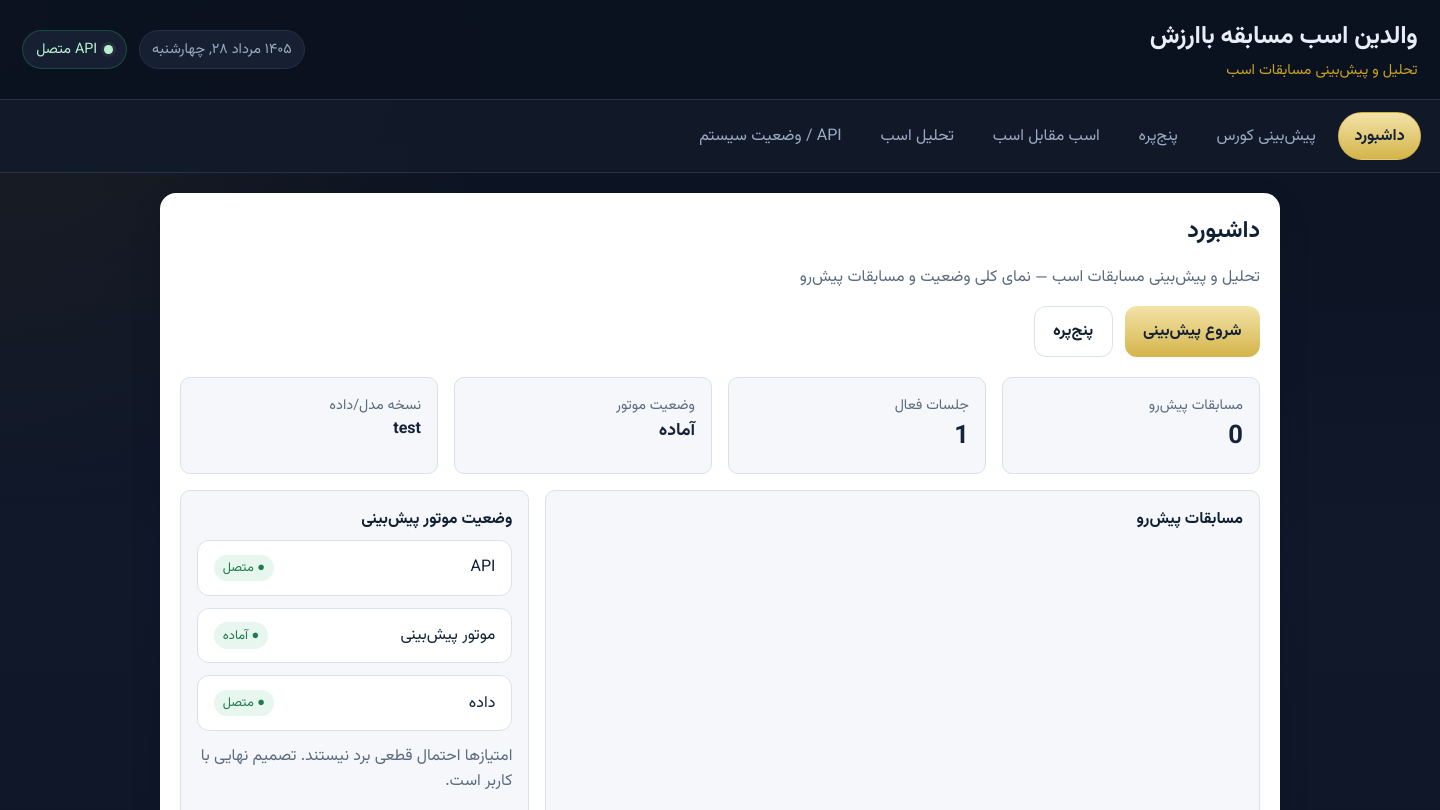
it: App dashboard › validates horse vs horse same-horse selection
Click the button "اسب مقابل اسب".
click(1046, 136)  # box [976, 112, 1116, 160]
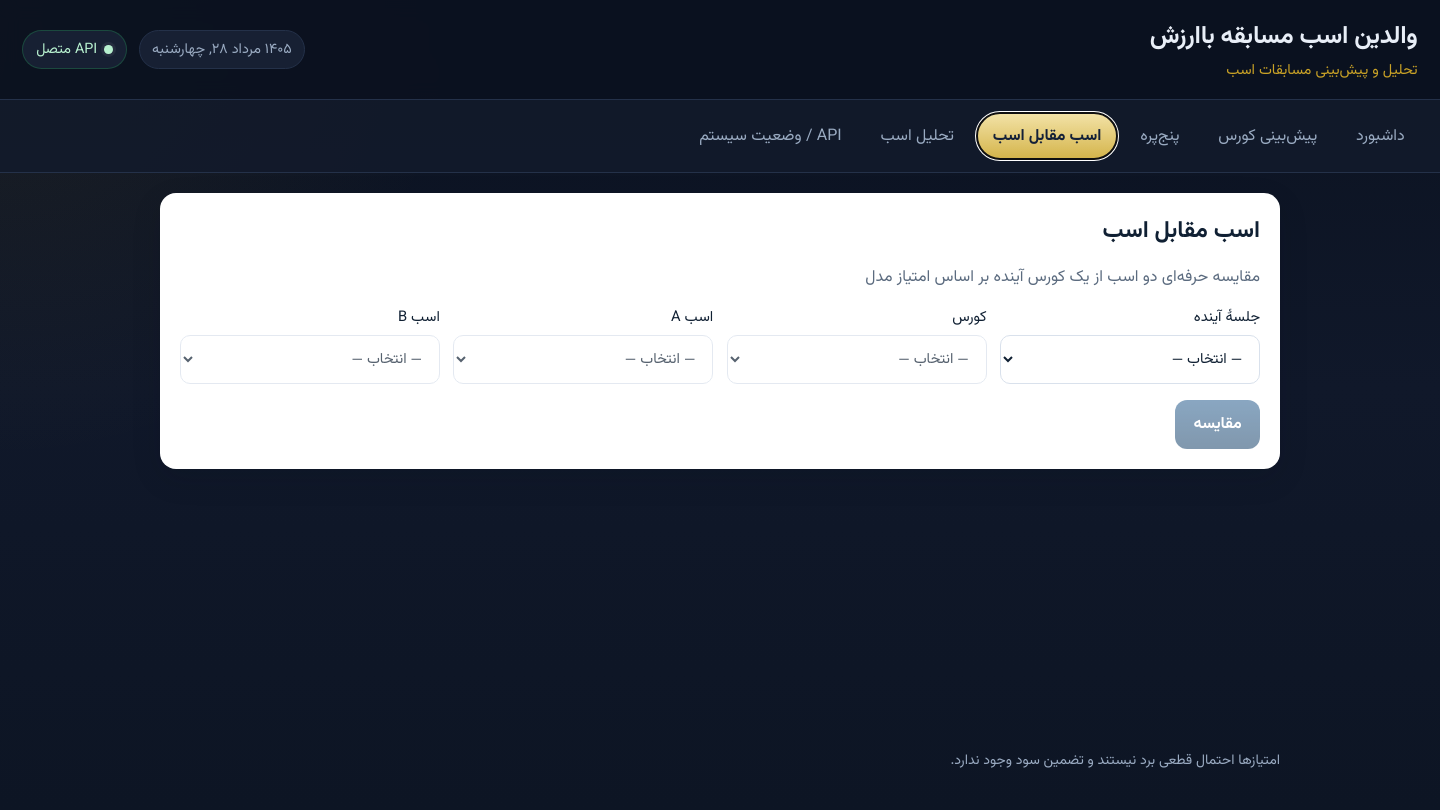
Select "جمعه · مشهد" in the dropdown labelled "جلسهٔ آینده" at (1130, 360), box [1000, 335, 1260, 384]
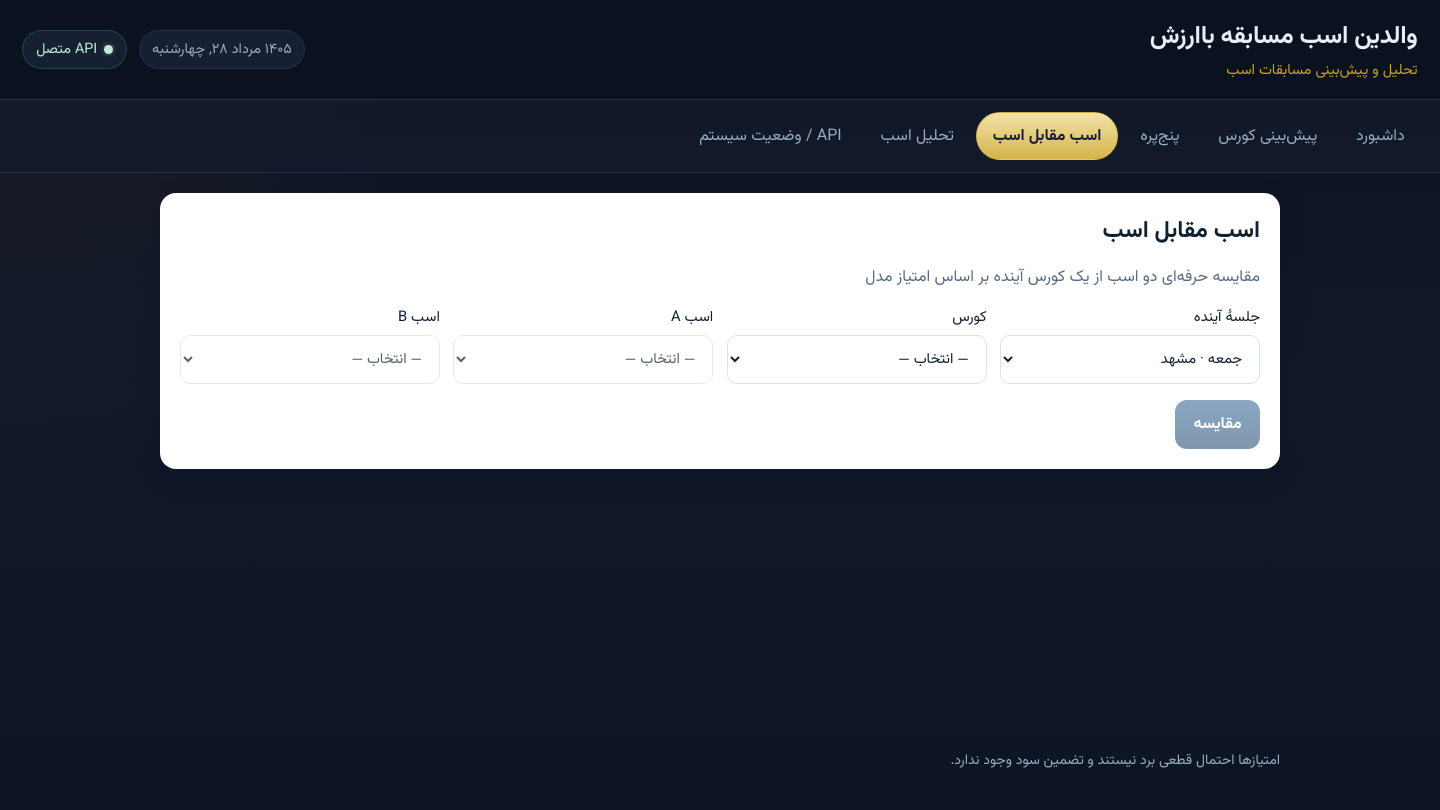
Select "کورس ۱" in the dropdown labelled "کورس" at (857, 360), box [727, 335, 987, 384]
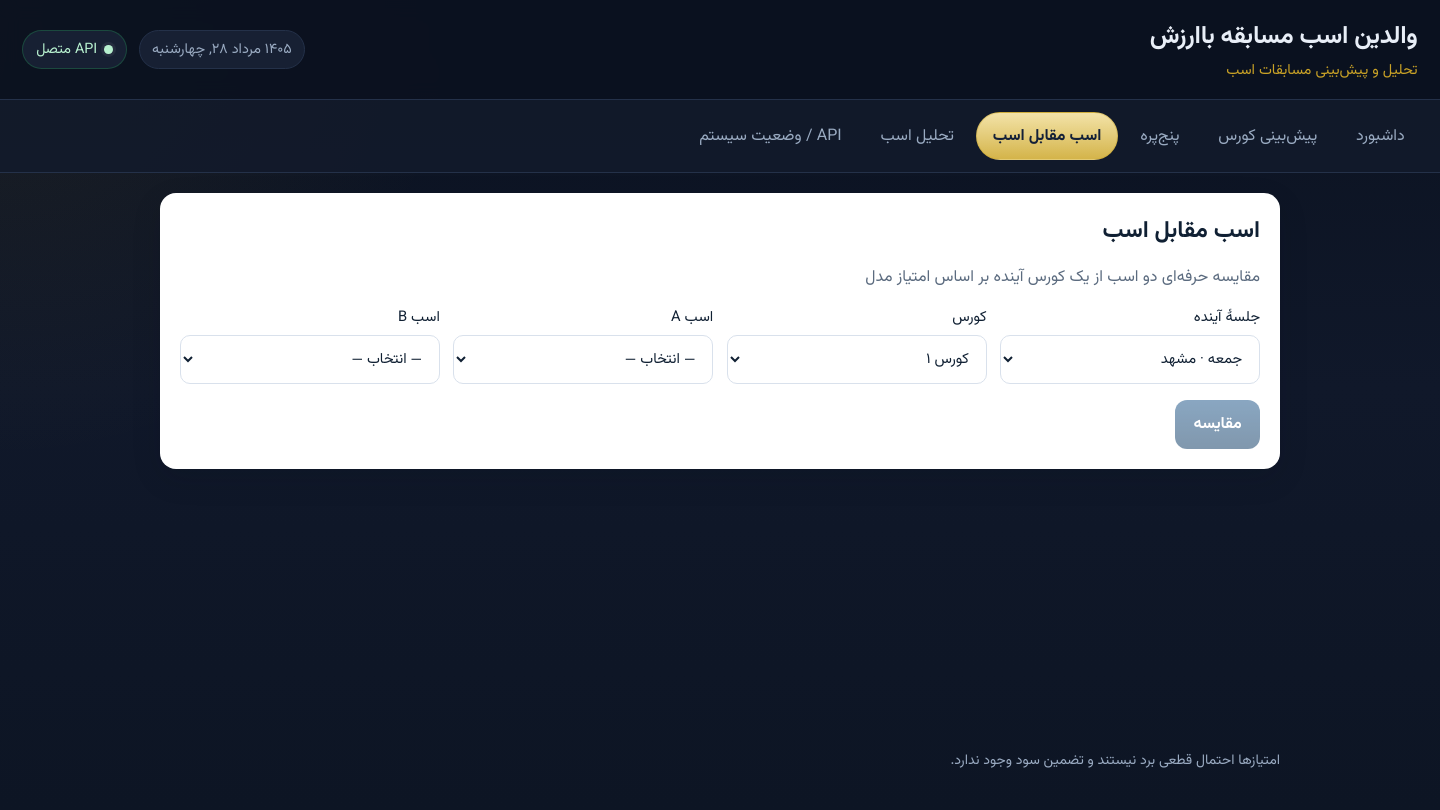
Select "A" in the dropdown labelled "اسب A" at (583, 360), box [453, 335, 713, 384]
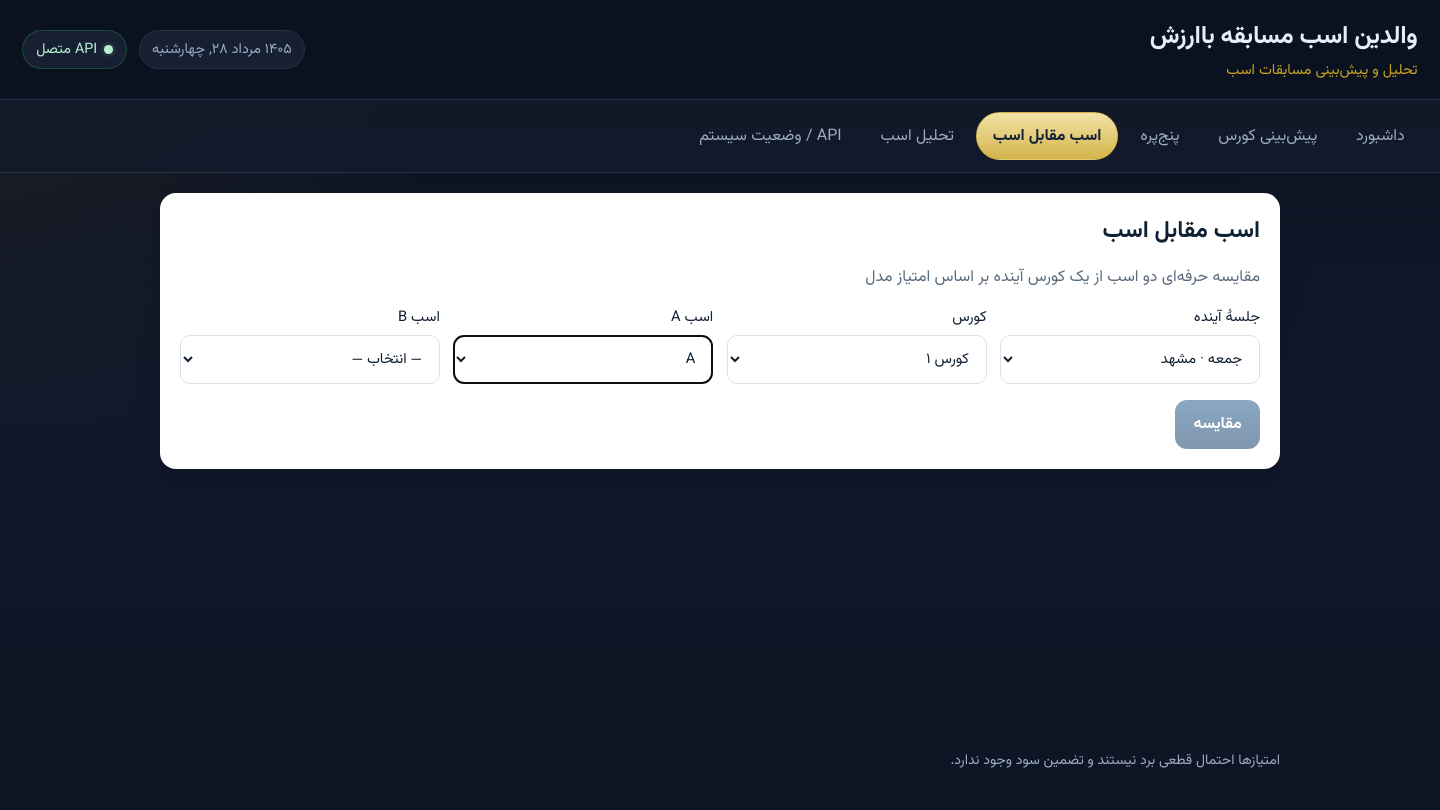
Select "A" in the dropdown labelled "اسب B" at (310, 360), box [180, 335, 440, 384]
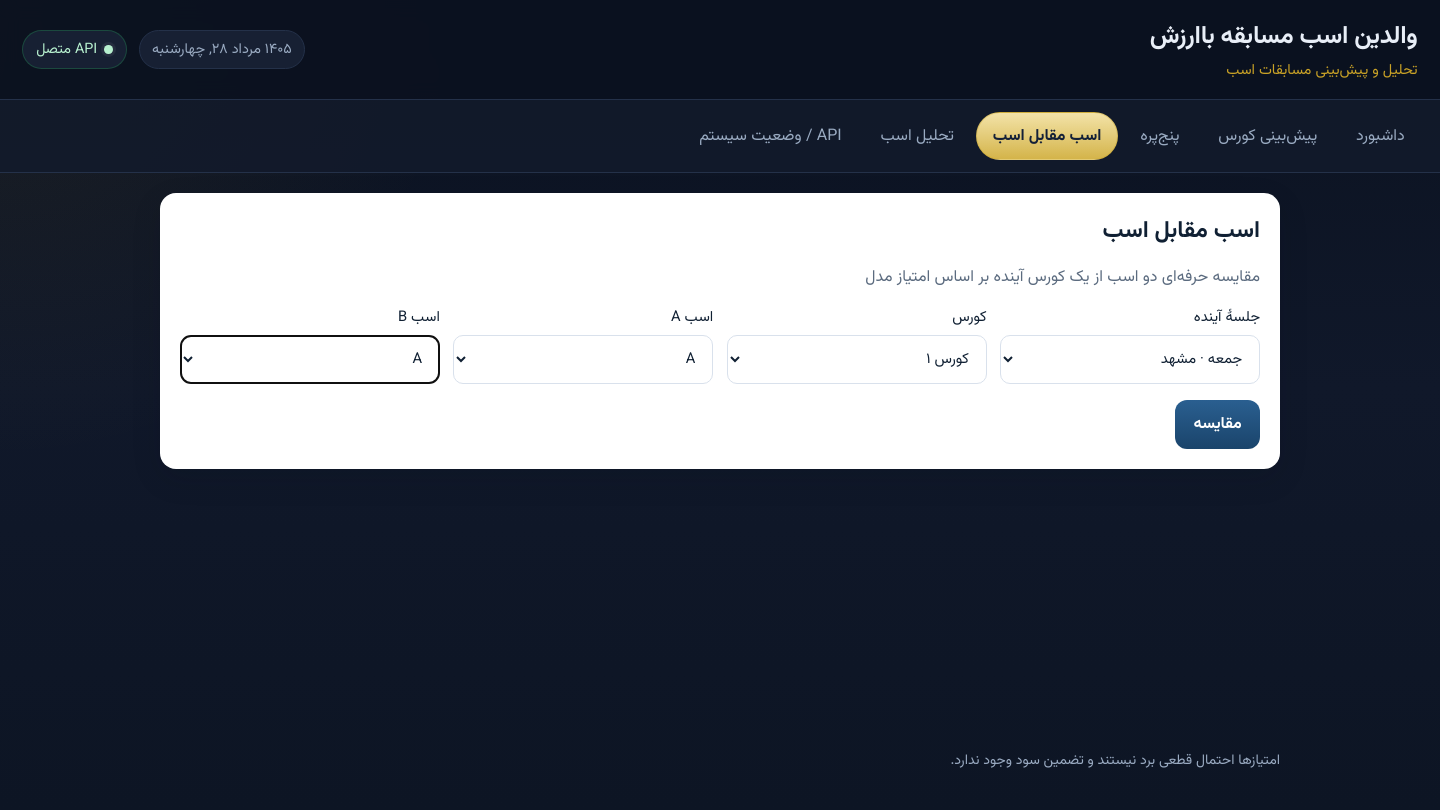
Click the button "مقایسه".
click(1218, 425)  # box [1175, 400, 1260, 449]
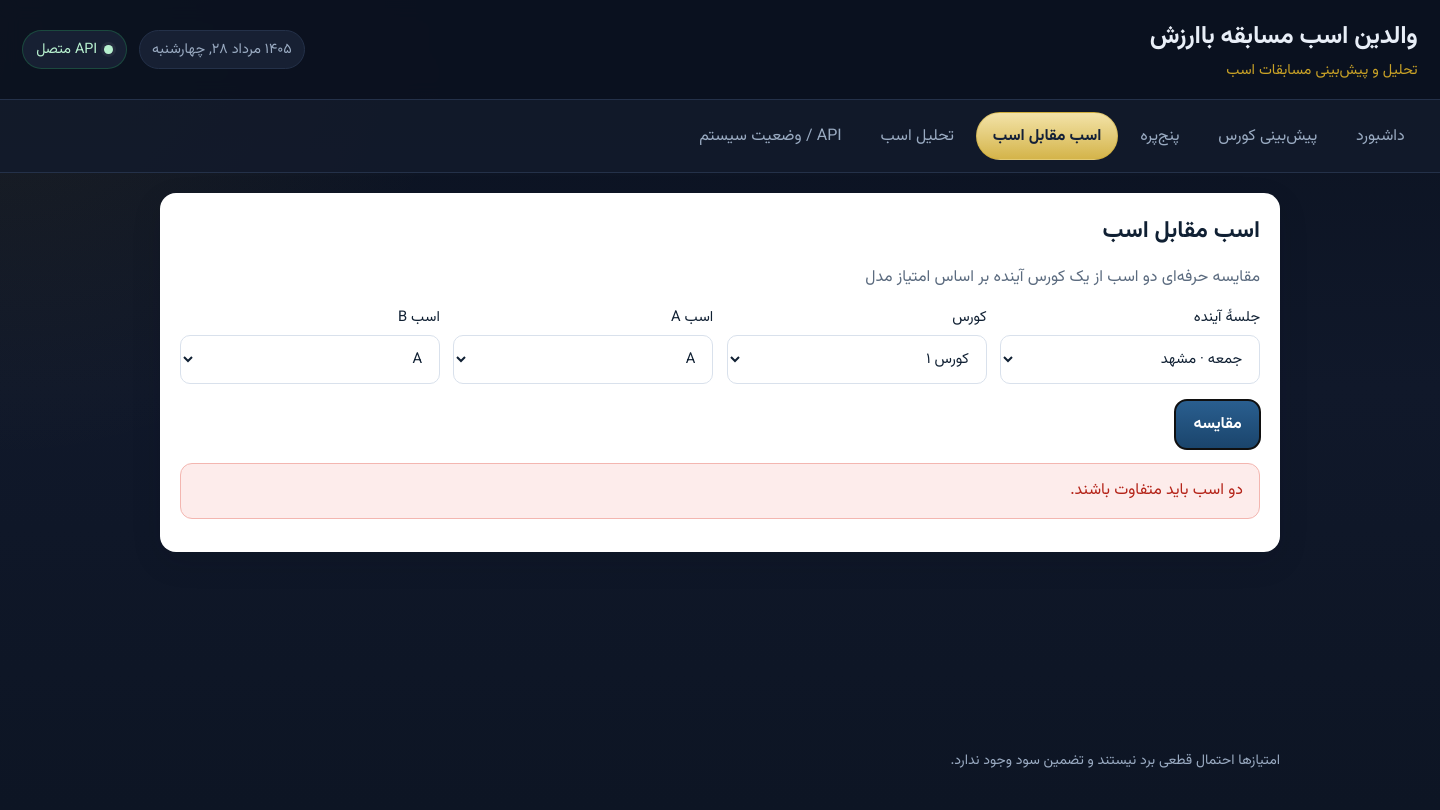
Result: the text "دو اسب باید متفاوت باشند." is shown at [180, 463, 1260, 518]
